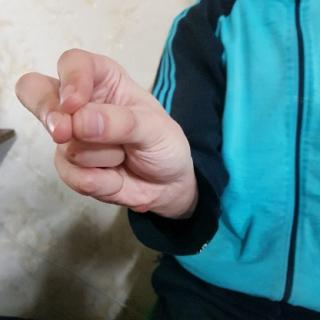QAAF: (10, 42, 204, 230)
